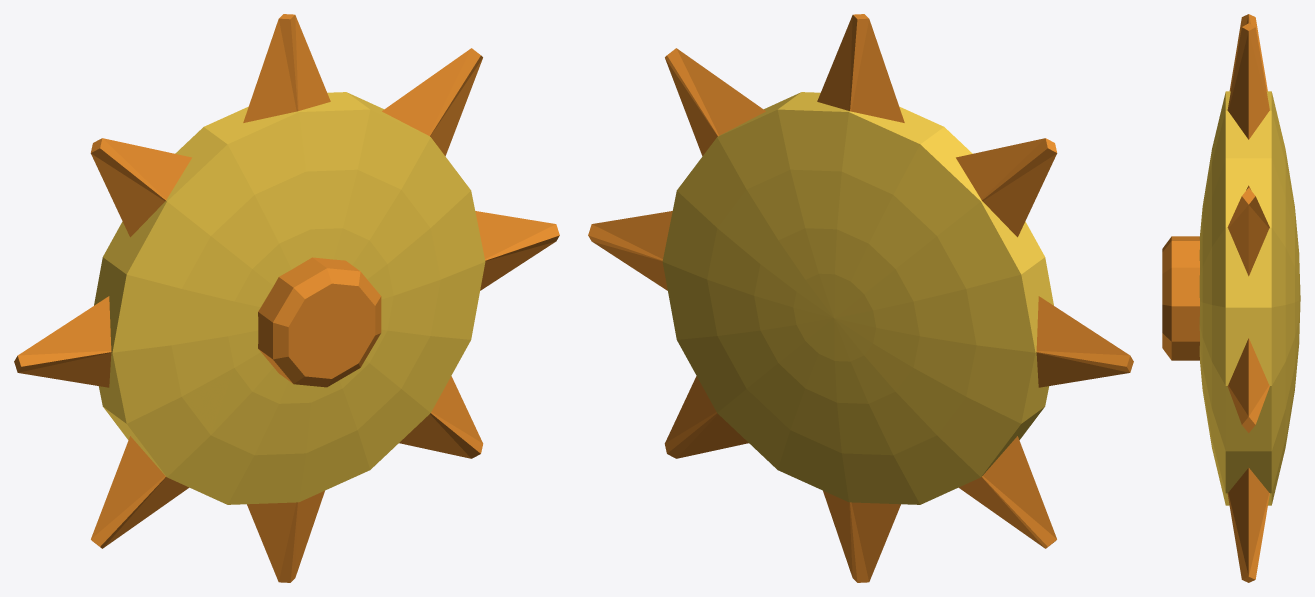
The model's file is KANJI_16_HI.fbx.
The picture shows the model from 3 angles, left to right: view 1: azimuth 30°, elevation 25°; view 2: azimuth 150°, elevation 25°; view 3: azimuth 270°, elevation 25°; orthographic projection. The views are drawn at different scales.
Visible parts, largest first — view 1: SM_KANJI_16_Hi; view 2: SM_KANJI_16_Hi; view 3: SM_KANJI_16_Hi.
Boxes of the visible parts, bbox=[...] form: SM_KANJI_16_Hi: bbox=[14, 14, 559, 582]; SM_KANJI_16_Hi: bbox=[588, 14, 1133, 582]; SM_KANJI_16_Hi: bbox=[1162, 14, 1300, 582].
Size of the model in its own units: 0.26 by 0.26 by 0.06.
